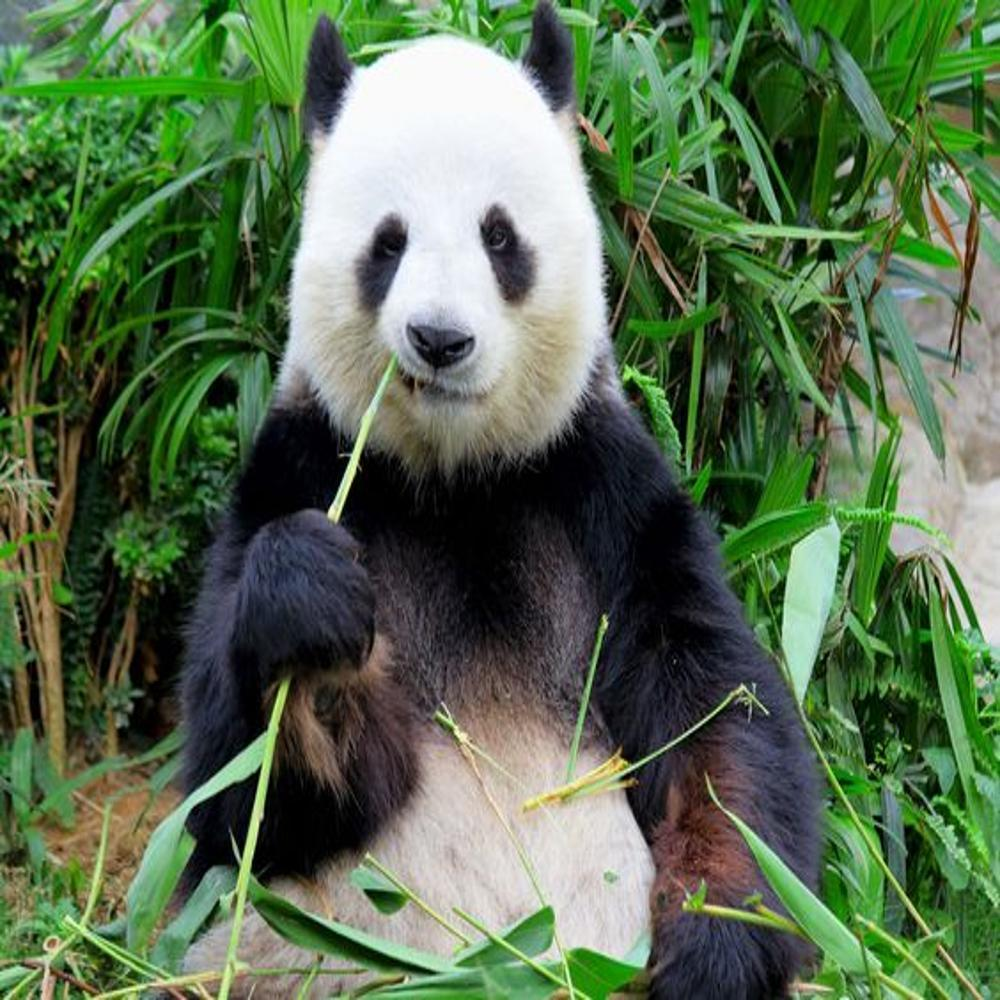panda: (180, 2, 834, 1000)
